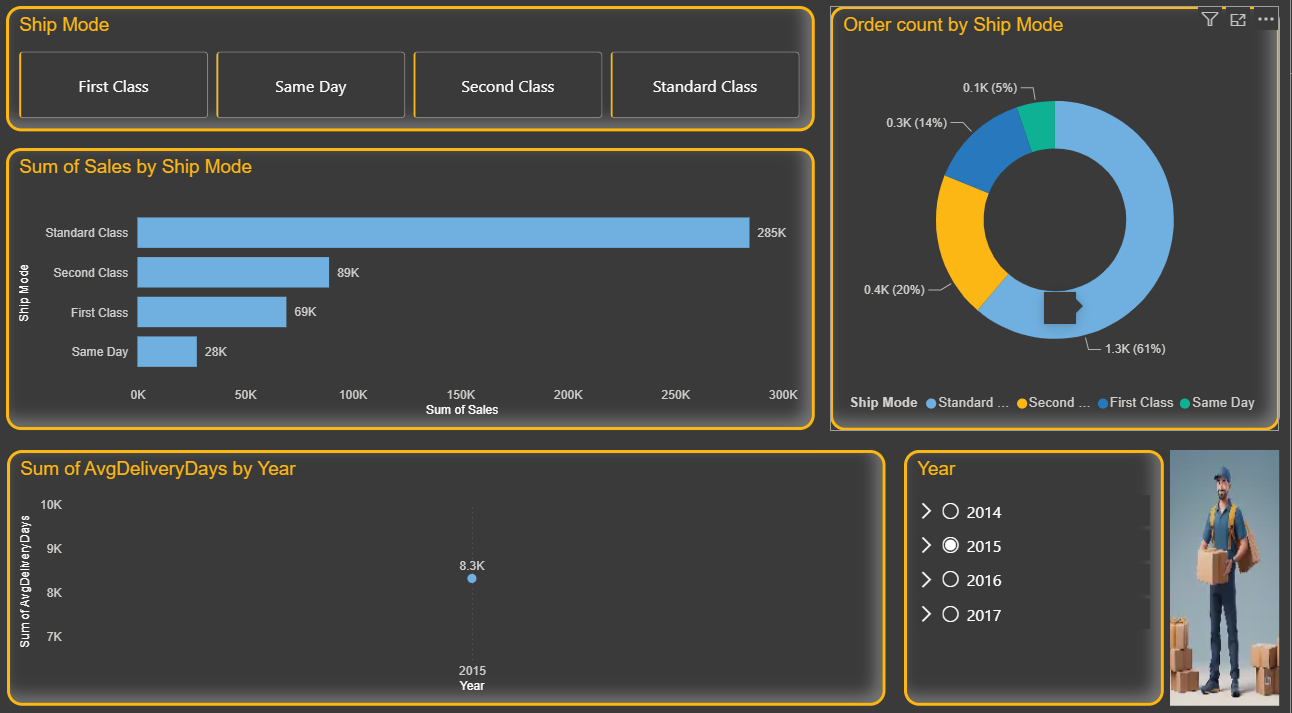

The page's visual inventory and layout, read from the dashboard file:
{"tool":"powerbi","page":{"name":"shipping and delivery","canvas":[1280,720],"ordinal":4},"visuals":[{"type":"barChart","fields":{"Category":["Sample -- Superstore (2).Ship Mode"],"Y":["Sum(Sample -- Superstore (2).Sales)"]},"box":[10.4,156.4,800.4,279.5],"z":0},{"type":"lineChart","fields":{"Category":["Sample -- Superstore (2).Order Date.Variation.Date Hierarchy.Year","Sample -- Superstore (2).Order Date.Variation.Date Hierarchy.Quarter"],"Y":["Sum(Sample -- Superstore (2).AvgDeliveryDays)"]},"box":[10.5,455.3,868.8,253.2],"z":1000},{"type":"listSlicer","fields":{"Values":["Sample -- Superstore (2).Order Date.Variation.Date Hierarchy.Year","Sample -- Superstore (2).Order Date.Variation.Date Hierarchy.Quarter","Sample -- Superstore (2).Order Date.Variation.Date Hierarchy.Month","Sample -- Superstore (2).Order Date.Variation.Date Hierarchy.Day"]},"box":[897.9,455.3,256.7,253.2],"z":2000},{"type":"donutChart","fields":{"Category":["Sample -- Superstore (2).Ship Mode"],"Y":["Sample -- Superstore (2).Order count"]},"box":[824.6,16.1,444.9,420.5],"z":3000},{"type":"advancedSlicerVisual","fields":{"Values":["Sample -- Superstore (2).Ship Mode"]},"box":[10.4,16.1,800.4,124.2],"z":4000},{"type":"image","box":[1161.5,455.4,108.1,253],"z":5000}]}

Visuals, with their boxes in screenshot pixels (x1, y1, x2, y2), scaled from the page's 1280x720 canvas onto the 1292x713 screenshot:
barChart - Sample -- Superstore (2).Ship Mode x Sum(Sample -- Superstore (2).Sales): box(10, 155, 818, 432)
lineChart - Sample -- Superstore (2).Order Date.Variation.Date Hierarchy.Year x Sample -- Superstore (2).Order Date.Variation.Date Hierarchy.Quarter: box(11, 451, 888, 702)
listSlicer - Sample -- Superstore (2).Order Date.Variation.Date Hierarchy.Year x Sample -- Superstore (2).Order Date.Variation.Date Hierarchy.Quarter: box(906, 451, 1165, 702)
donutChart - Sample -- Superstore (2).Ship Mode x Sample -- Superstore (2).Order count: box(832, 16, 1281, 432)
advancedSlicerVisual - Sample -- Superstore (2).Ship Mode: box(10, 16, 818, 139)
image: box(1172, 451, 1282, 702)
